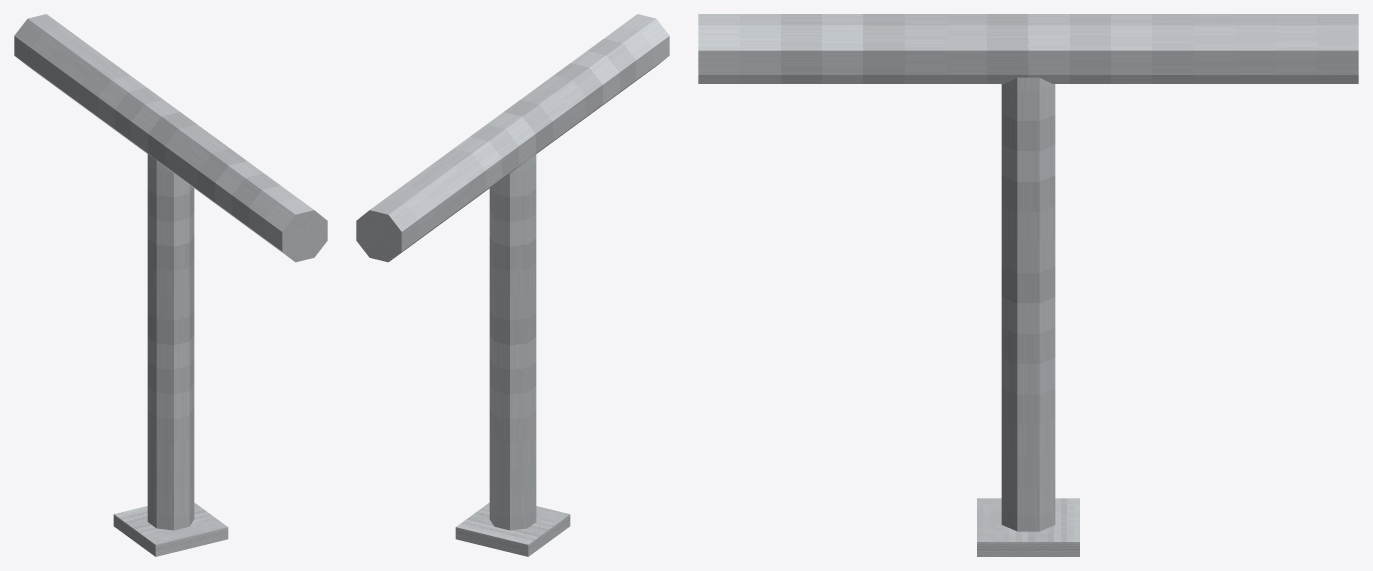
File: handrail_level.obj
The picture shows the model from 3 angles, left to right: view 1: azimuth 30°, elevation 25°; view 2: azimuth 150°, elevation 25°; view 3: azimuth 270°, elevation 25°; orthographic projection. The views are drawn at different scales.
Visible parts, largest first — view 1: handrail_level; view 2: handrail_level; view 3: handrail_level.
Boxes of the visible parts, x1,y1,x2,y2 form: handrail_level: (14, 14, 327, 556); handrail_level: (356, 14, 669, 556); handrail_level: (698, 14, 1358, 556).
Size of the model in its own units: 0.1562 by 0.8616 by 1.
